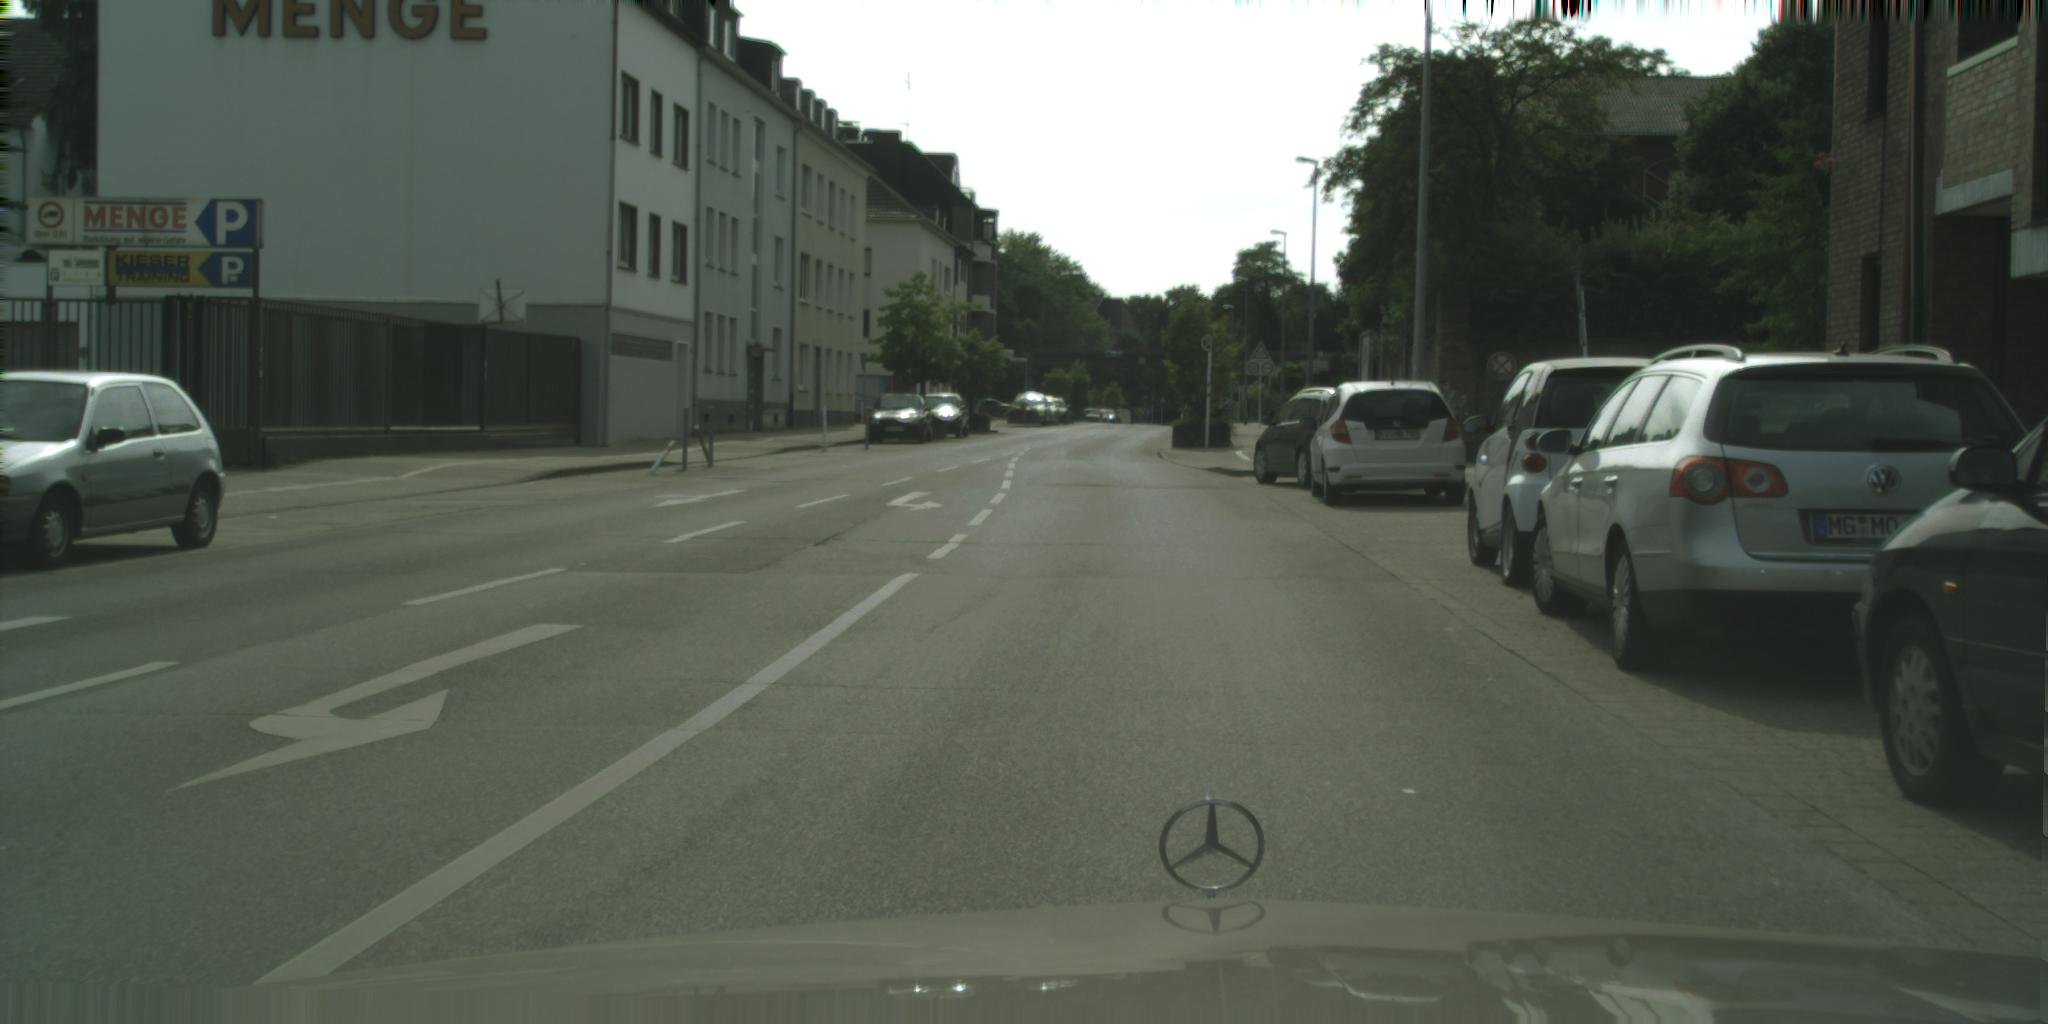car: (1533, 342, 2041, 679), (1851, 411, 2048, 812), (1, 370, 230, 571), (1463, 358, 1652, 586), (1306, 360, 1468, 508), (1253, 387, 1339, 488), (865, 393, 935, 447), (1008, 392, 1072, 427), (923, 393, 970, 440)
